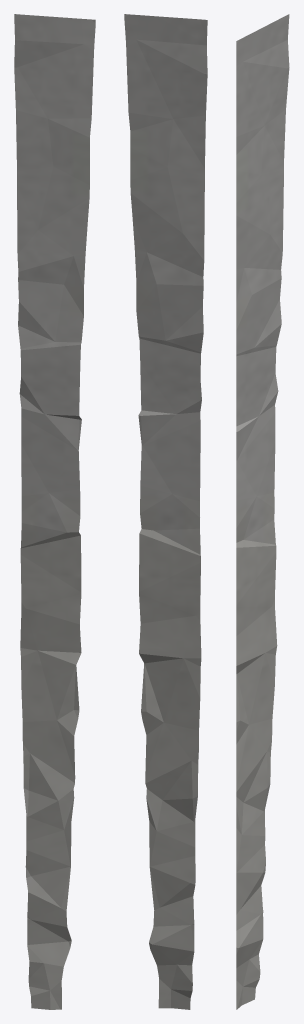
The picture shows the model from 3 angles, left to right: view 1: azimuth 30°, elevation 25°; view 2: azimuth 210°, elevation 25°; view 3: azimuth 270°, elevation 25°; orthographic projection. The views are drawn at different scales.
Bounding box in the file's own units: 0.0493 × 0.8374 × 0.0408.
Materials: 1 (1 with a texture image).
